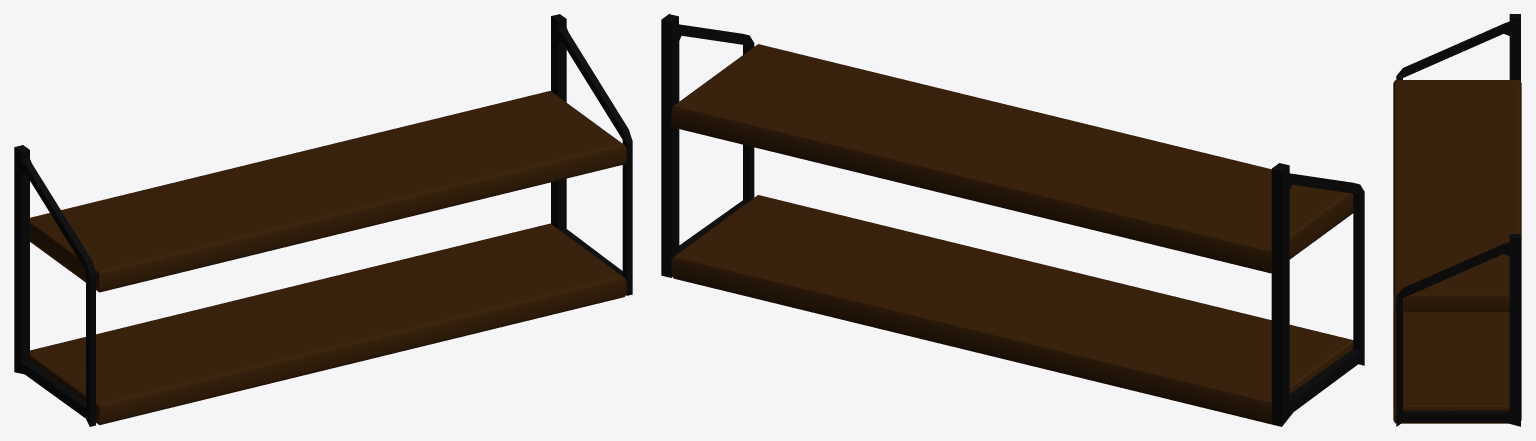
Rendered from Storage_Standin.fbx.
3 renders of one model, left to right at view 1: azimuth 30°, elevation 25°; view 2: azimuth 150°, elevation 25°; view 3: azimuth 270°, elevation 25°, orthographic. The views are drawn at different scales.
Parts seen in each view (by area): view 1: pCube5; view 2: pCube5; view 3: pCube5.
Part boxes in pixels (x1,y1,x2,y2): pCube5: (14,14,632,426); pCube5: (661,14,1364,426); pCube5: (1393,14,1521,426).
Size of the model in its own units: 0.4134 by 0.1646 by 0.1.
